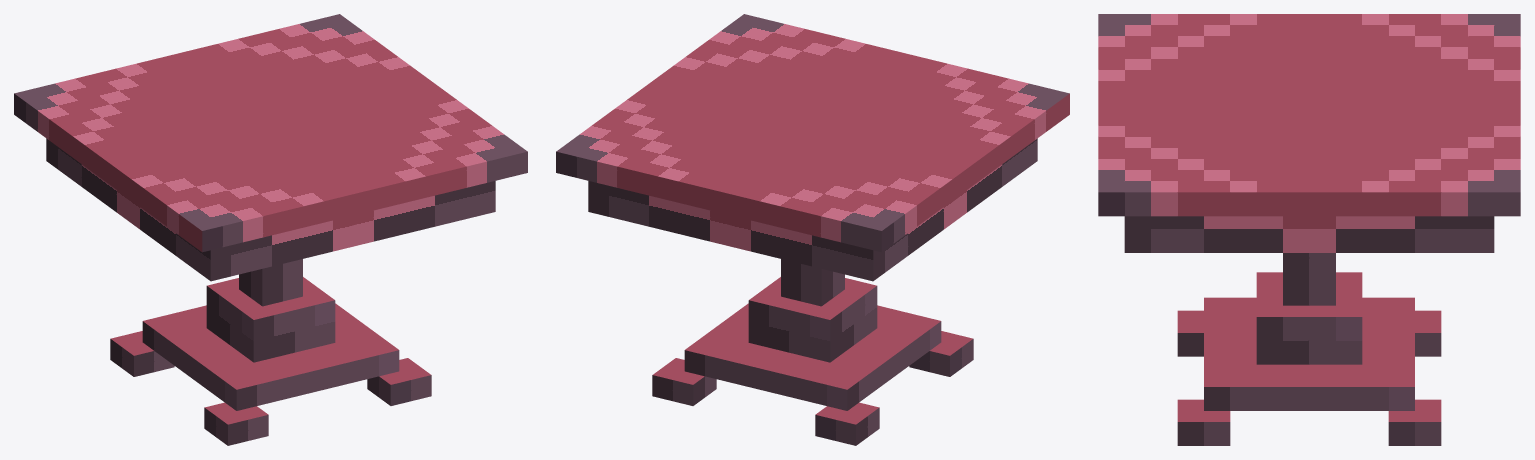
The model's file is int_table_aao.fezao.glb.
3 views of the same model, side by side, from view 1: azimuth 30°, elevation 25°; view 2: azimuth 150°, elevation 25°; view 3: azimuth 270°, elevation 25° (orthographic). The views are drawn at different scales.
Visible parts, largest first — view 1: INT_TABLE_AAO; view 2: INT_TABLE_AAO; view 3: INT_TABLE_AAO.
Part boxes in pixels (box(x1,y1,x2,y2)): INT_TABLE_AAO: box(14, 14, 527, 445); INT_TABLE_AAO: box(556, 14, 1069, 445); INT_TABLE_AAO: box(1098, 14, 1520, 445).
Bounding box in the file's own units: 1 × 0.75 × 1.
1 material, 1 textured.
